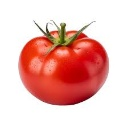tomato: (18, 30, 110, 106)
